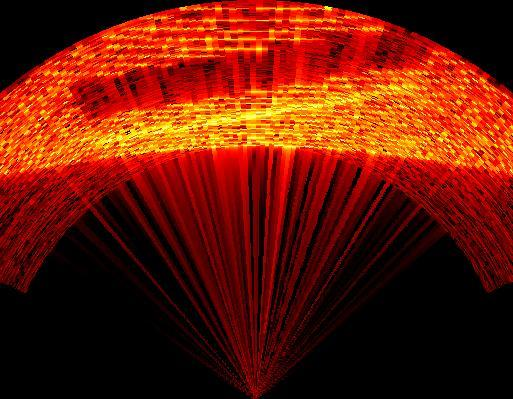pipe: (65, 25, 446, 144)
